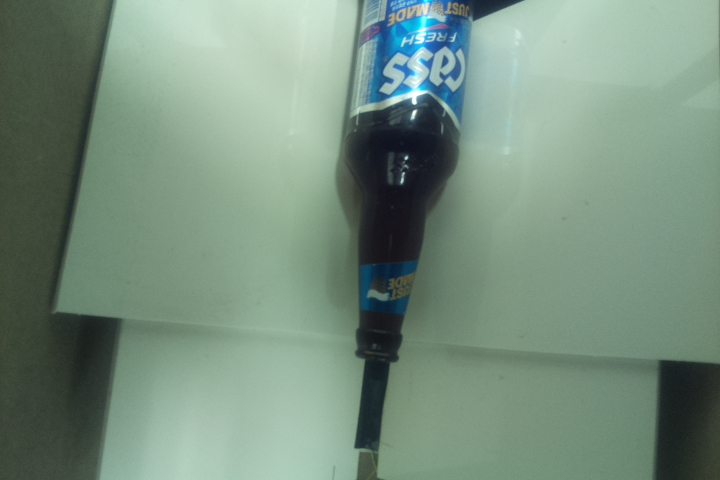makju: (333, 1, 472, 365)
